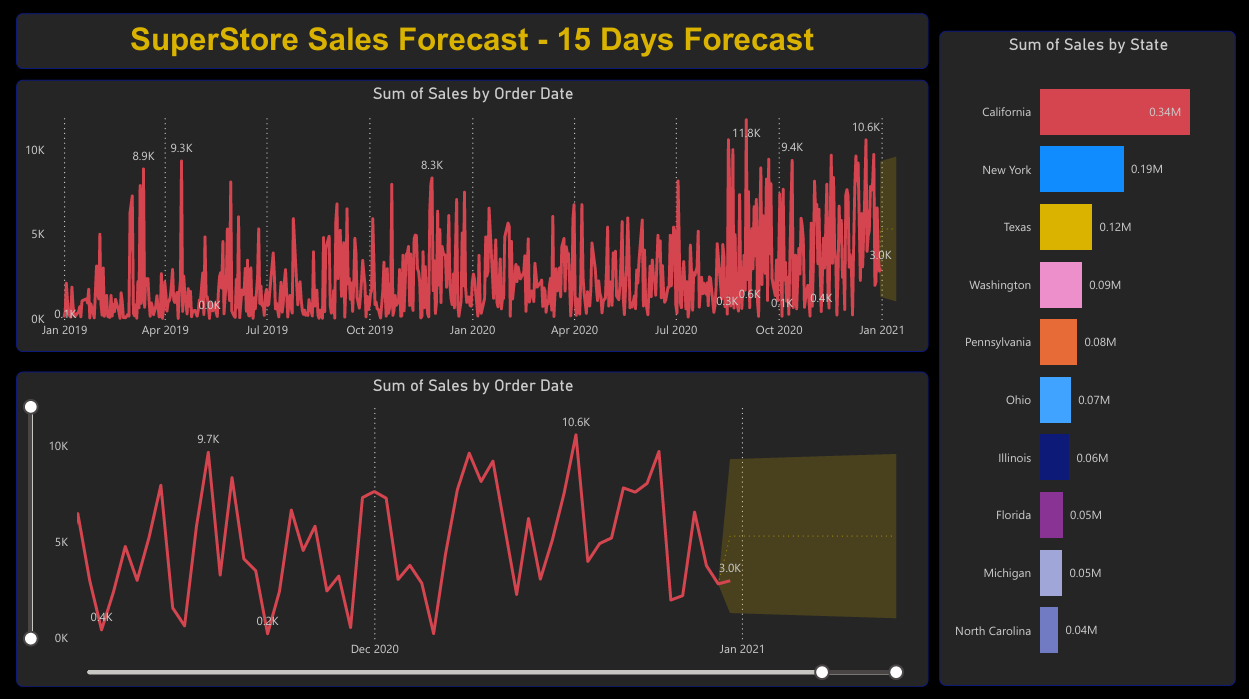

This screenshot's page, from the dashboard's own definition file:
{"tool":"powerbi","page":{"name":"Page 2","canvas":[1280,720],"ordinal":1},"visuals":[{"type":"lineChart","fields":{"Y":["Sum(SuperStore_Sales_Dataset.Sales)"],"Category":["SuperStore_Sales_Dataset.Order Date"]},"box":[18.3,81.7,931.7,278.3],"z":0},{"type":"lineChart","fields":{"Y":["Sum(SuperStore_Sales_Dataset.Sales)"],"Category":["SuperStore_Sales_Dataset.Order Date"]},"box":[18.3,380,931.7,321.7],"z":1000},{"type":"clusteredBarChart","fields":{"Y":["Sum(SuperStore_Sales_Dataset.Sales)"],"Category":["SuperStore_Sales_Dataset.State"]},"box":[960.6,31.6,303.3,669.6],"z":2000},{"type":"textbox","box":[17.8,13.7,931.7,57.6],"z":2001}]}

Visuals, with their boxes in screenshot pixels (x1, y1, x2, y2), scaled from the page's 1280x720 canvas onto the 1249x699 screenshot:
lineChart - Sum(SuperStore_Sales_Dataset.Sales) x SuperStore_Sales_Dataset.Order Date: {"x1": 18, "y1": 79, "x2": 927, "y2": 350}
lineChart - Sum(SuperStore_Sales_Dataset.Sales) x SuperStore_Sales_Dataset.Order Date: {"x1": 18, "y1": 369, "x2": 927, "y2": 681}
clusteredBarChart - Sum(SuperStore_Sales_Dataset.Sales) x SuperStore_Sales_Dataset.State: {"x1": 937, "y1": 31, "x2": 1233, "y2": 681}
textbox: {"x1": 17, "y1": 13, "x2": 927, "y2": 69}
